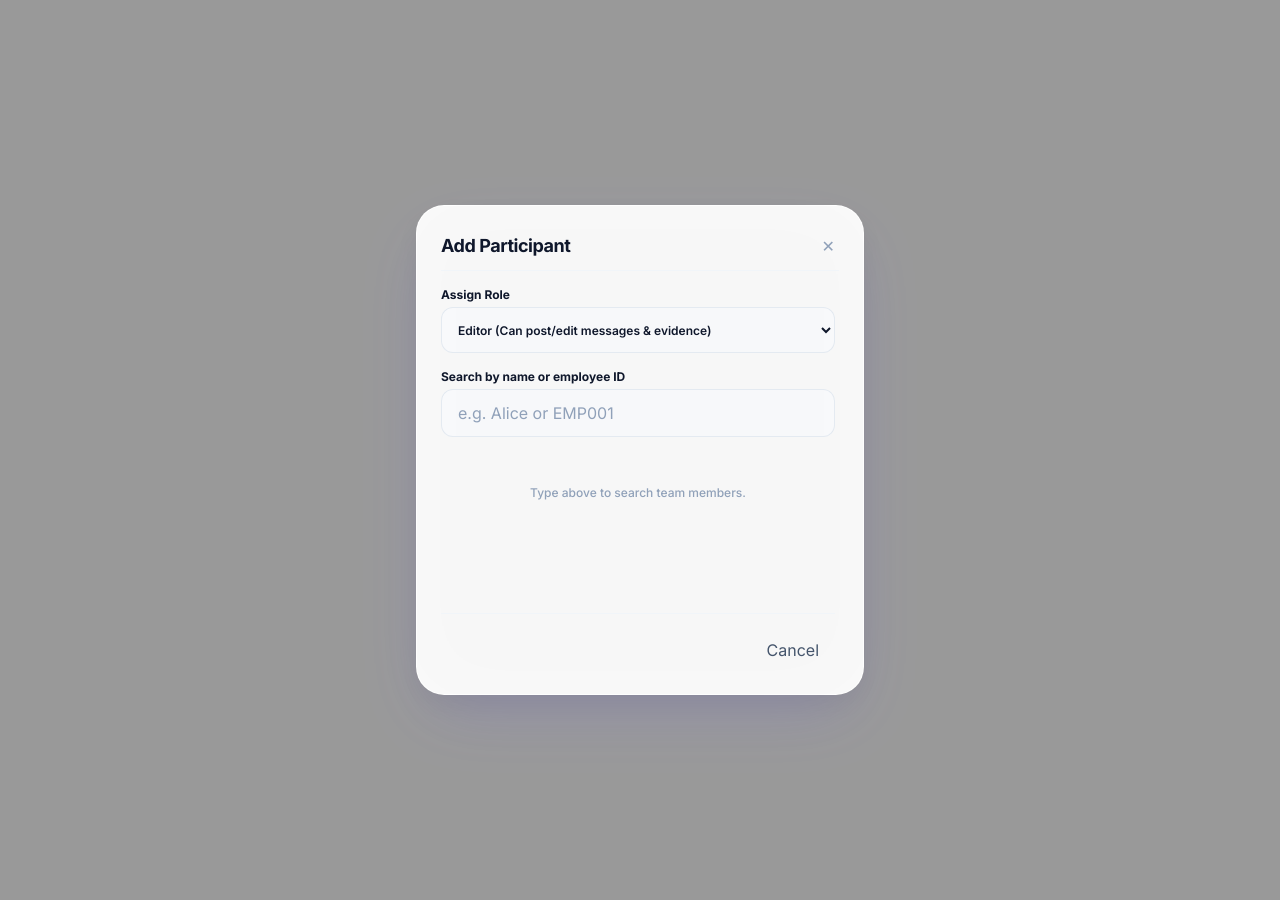
AddParticipantModal — search › renders search results after successful query
Type "Bob" into the field labelled "Search by name or employee ID" at (638, 413), box [441,389,835,437]
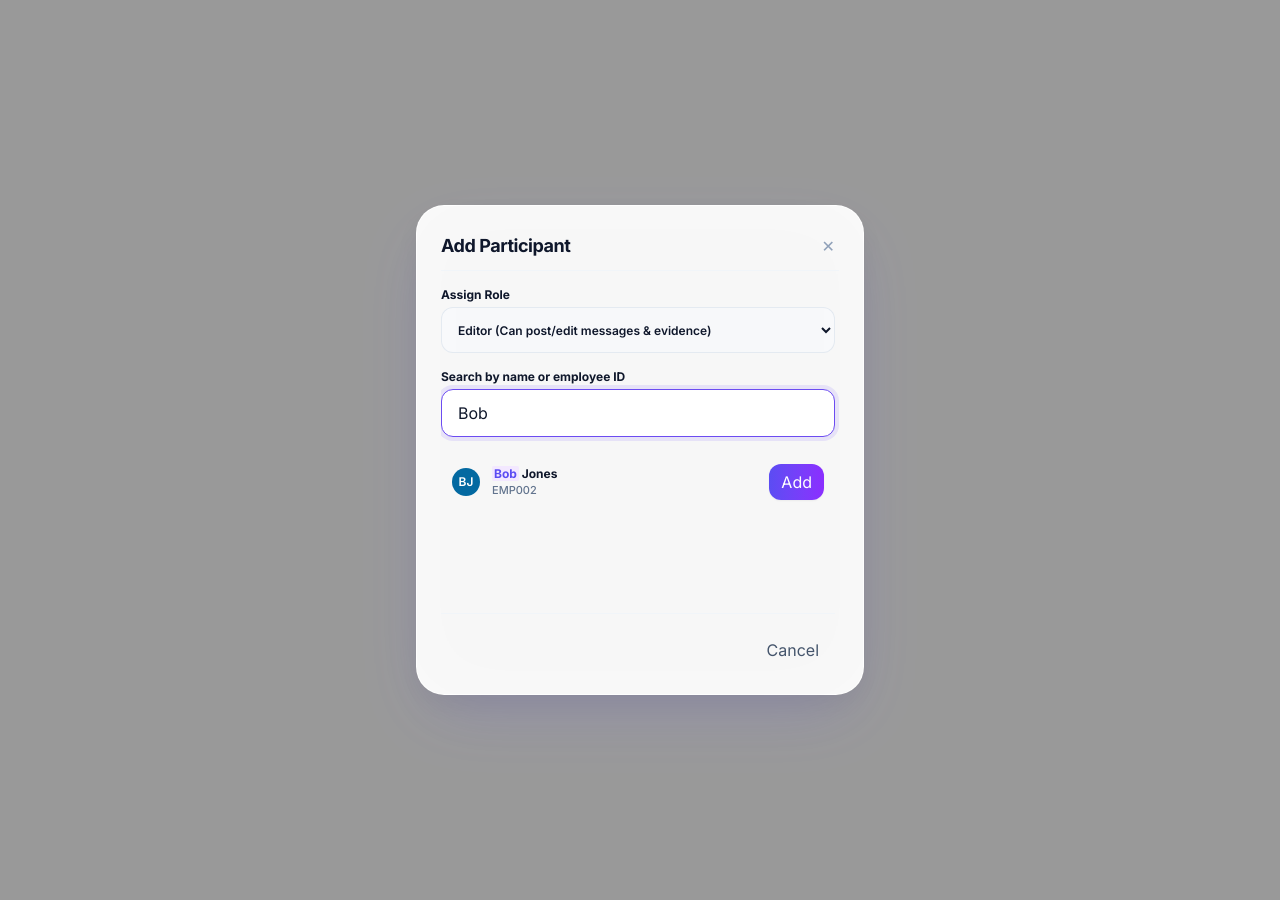
Expected: the text titled "Bob Jones" is shown, [452,468,480,496]
